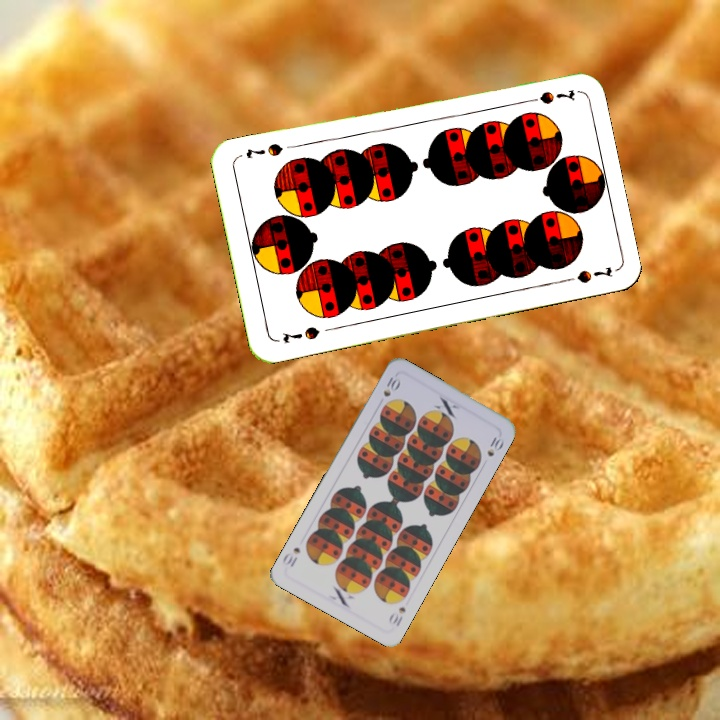S10: (379, 373, 403, 400), (385, 603, 408, 629)
S7: (519, 85, 577, 107), (278, 322, 322, 346)
